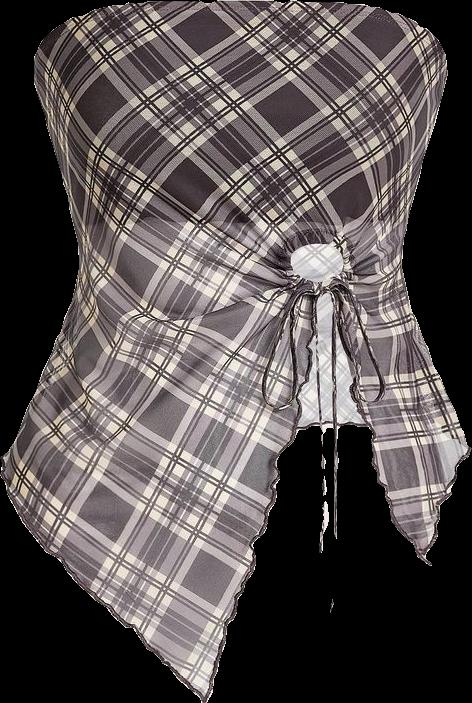Bodice: (1, 0, 468, 702)
Neckline: (30, 0, 451, 87)
Waistline: (0, 239, 471, 702)
